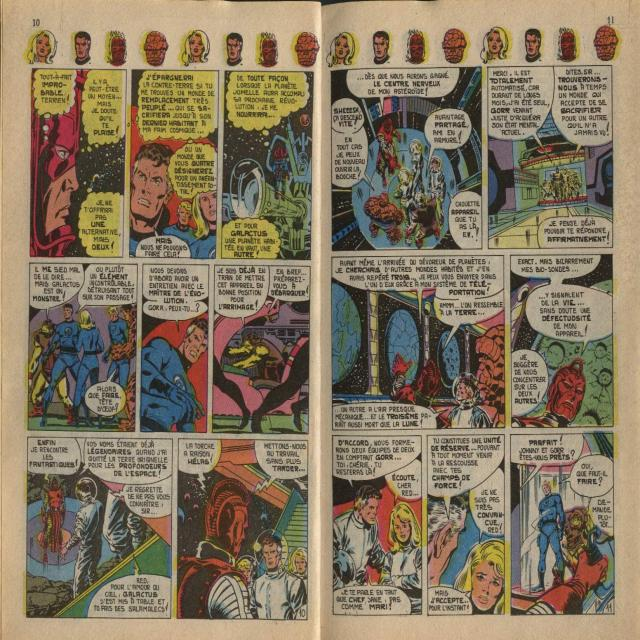comic_panel: (331, 253, 507, 431), (329, 66, 484, 252), (26, 435, 174, 619), (176, 436, 310, 622), (486, 63, 614, 252), (509, 431, 616, 617), (27, 259, 141, 433), (508, 251, 615, 430), (29, 68, 127, 258), (221, 69, 315, 261), (128, 67, 221, 259), (211, 263, 312, 436), (331, 431, 423, 619), (426, 432, 506, 617), (140, 262, 211, 434)
